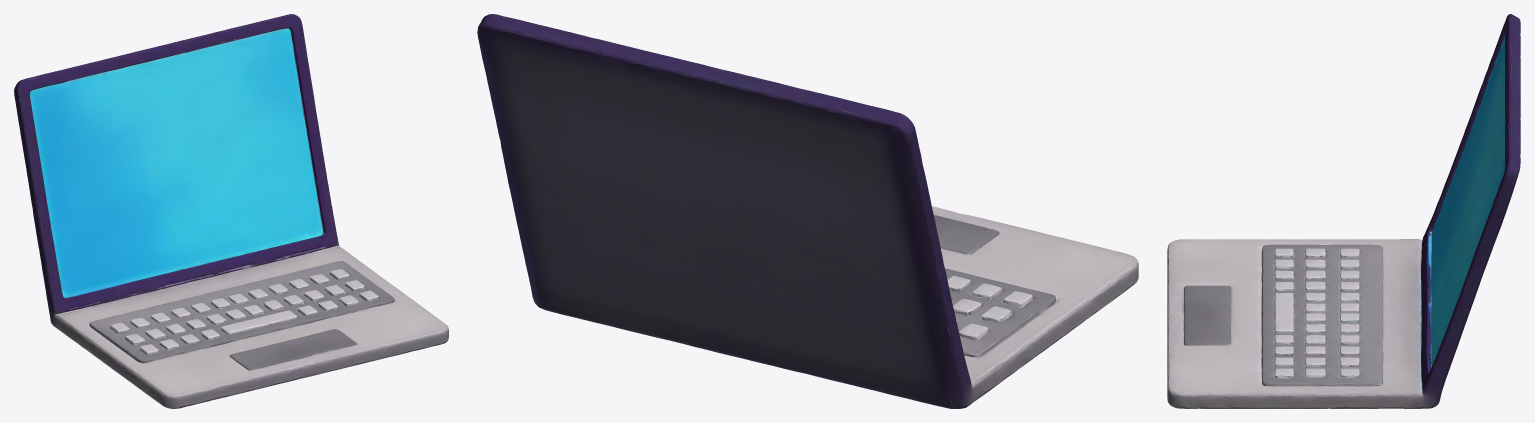
The model's file is laptop.glb.
3 views of the same model, side by side, from view 1: azimuth 30°, elevation 25°; view 2: azimuth 150°, elevation 25°; view 3: azimuth 270°, elevation 25° (orthographic). The views are drawn at different scales.
Parts seen in each view (by area): view 1: Mesh; view 2: Mesh; view 3: Mesh.
Boxes of the visible parts, <box> form: Mesh: <box>14,14,448,408</box>; Mesh: <box>477,14,1138,408</box>; Mesh: <box>1167,14,1520,408</box>.
Bounding box in the file's own units: 1 × 0.7332 × 0.9587.
Materials: 1 (1 with a texture image).
